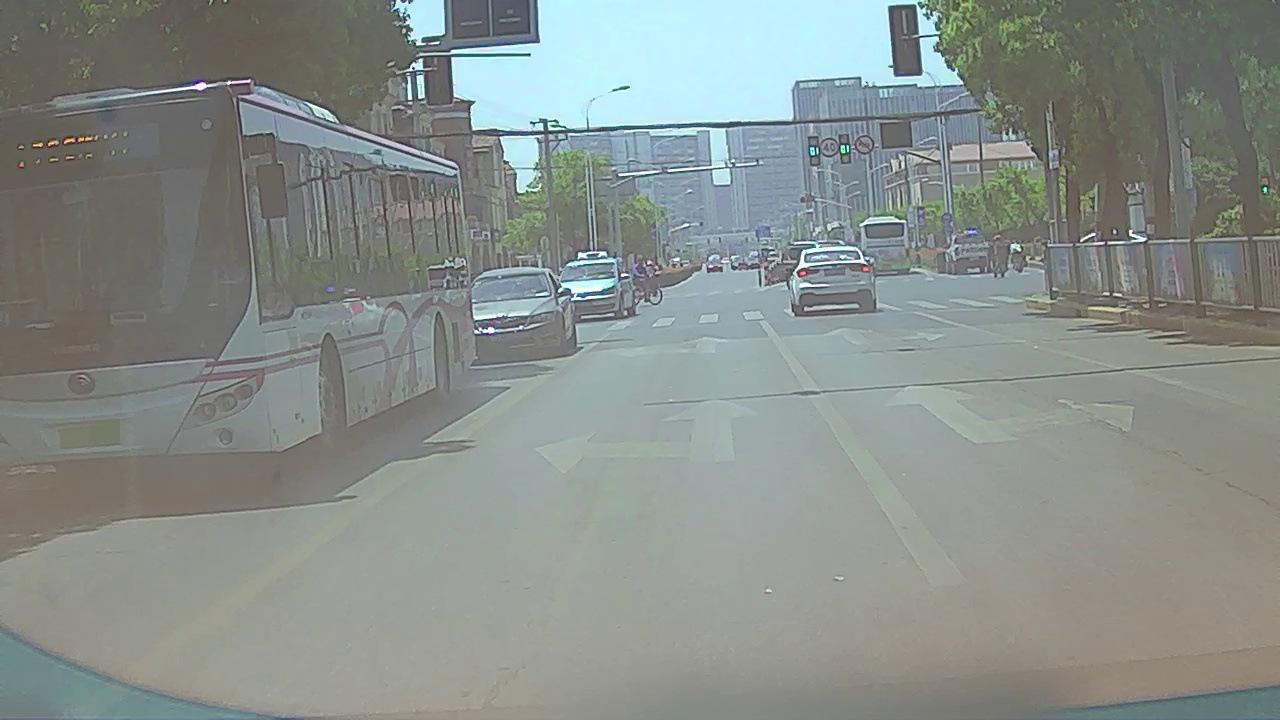traffic_light: (839, 134, 852, 165), (807, 135, 819, 166)
